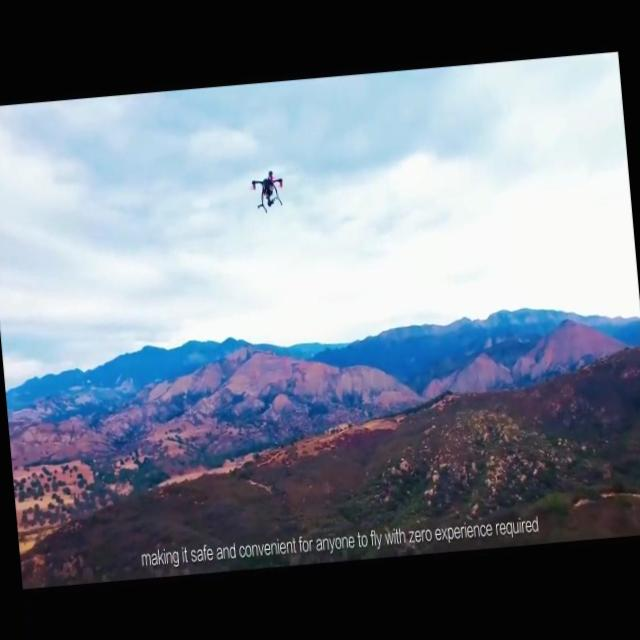drone: (248, 164, 286, 216)
